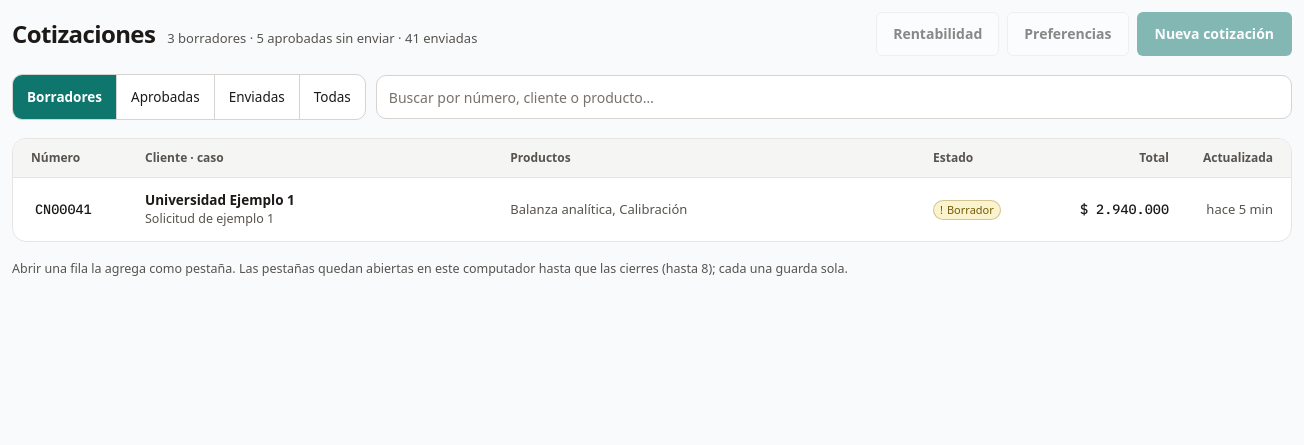
Scenario: QuoteListPane › asks for the filter chosen, with its rows replacing the old ones
Expected: the button "CN00041" is shown, [31,188,96,232]
Click the button "Aprobadas": (165, 97) [116,75,214,119]
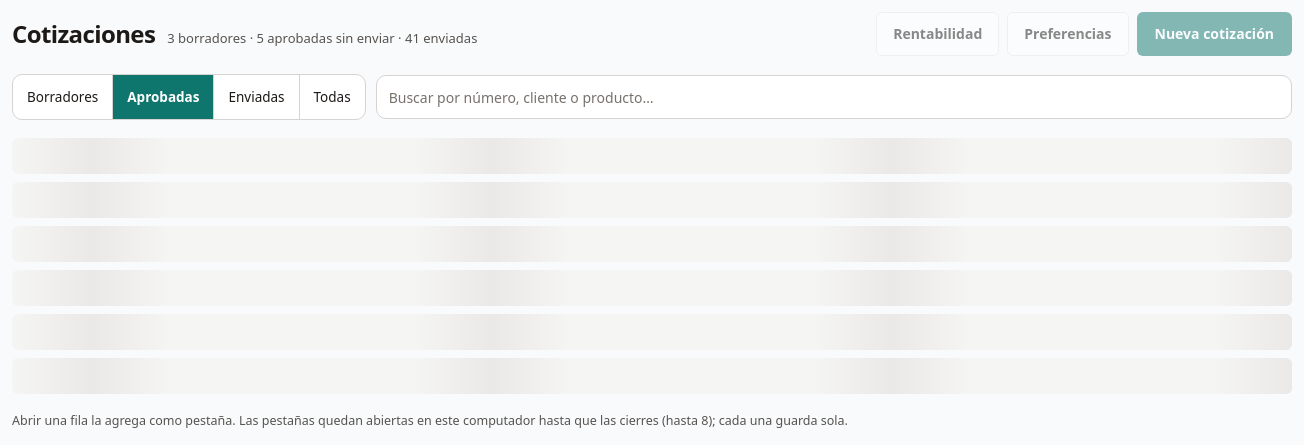
Expected: the button "Aprobadas" is pressed, [112,75,214,119]
Click the button "Enviadas": (256, 97) [214,75,299,119]
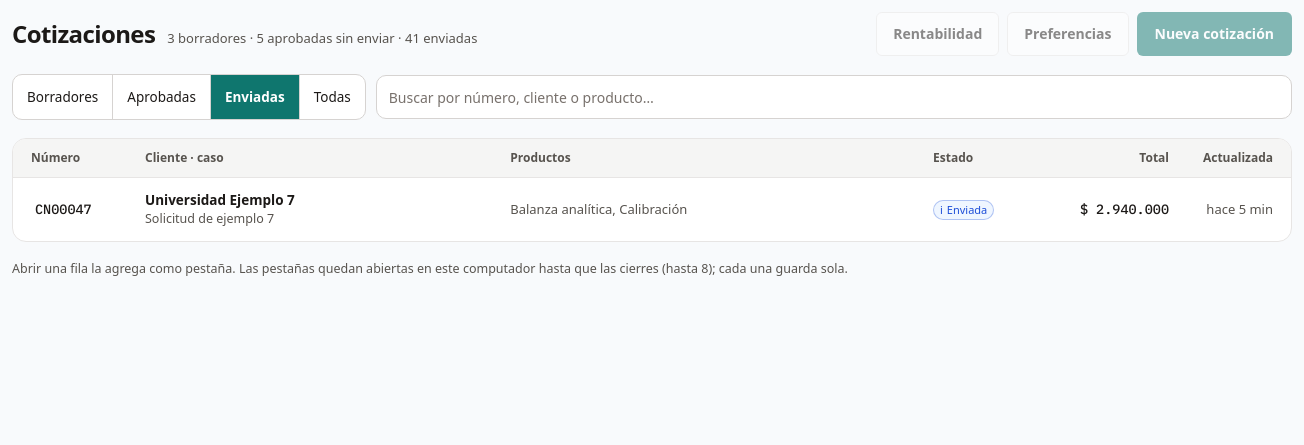
Expected: the button "Enviadas" is pressed, [210,75,299,119]
Click the button "Todas": (332, 97) [299,75,365,119]
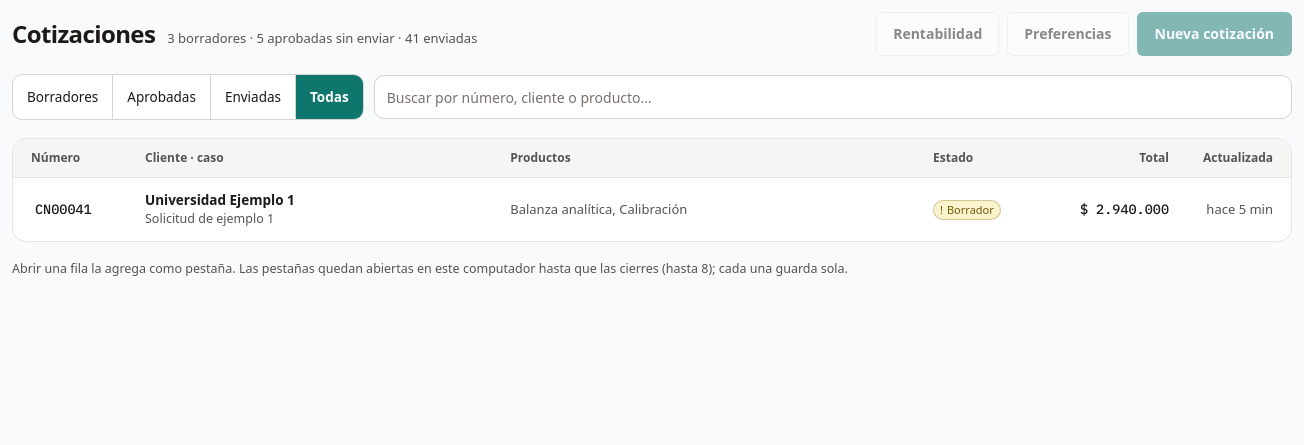
Expected: the button "Todas" is pressed, [295,75,363,119]
Click the button "Enviadas": (252, 97) [210,75,295,119]
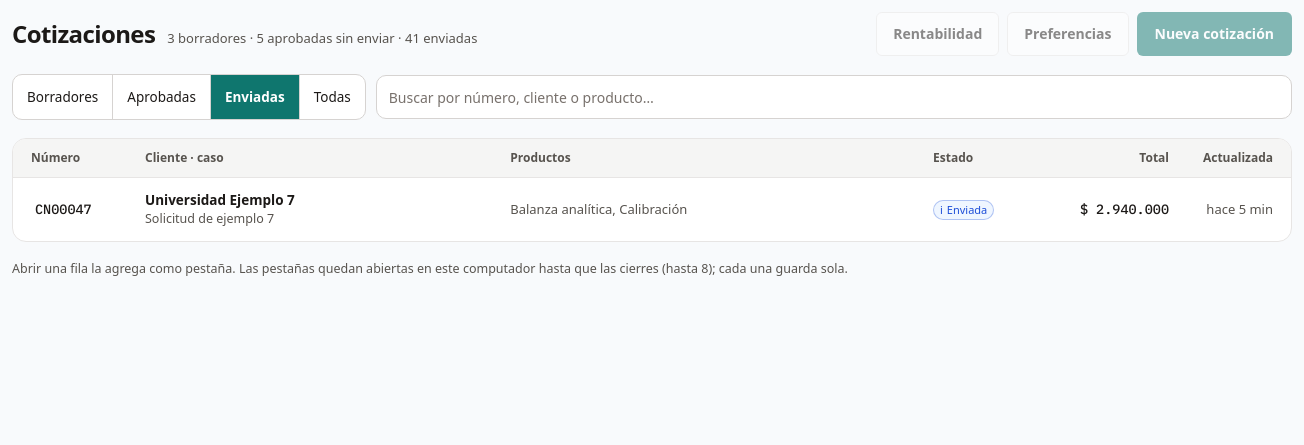
Expected: the button "CN00047" is shown, [31,188,96,232]
Expected: the button "CN00041" is gone
